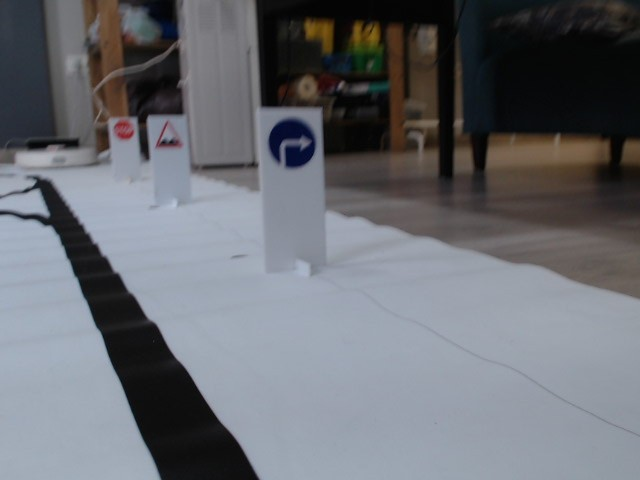Nerov: (153, 120, 183, 149)
Right: (265, 117, 318, 171)
